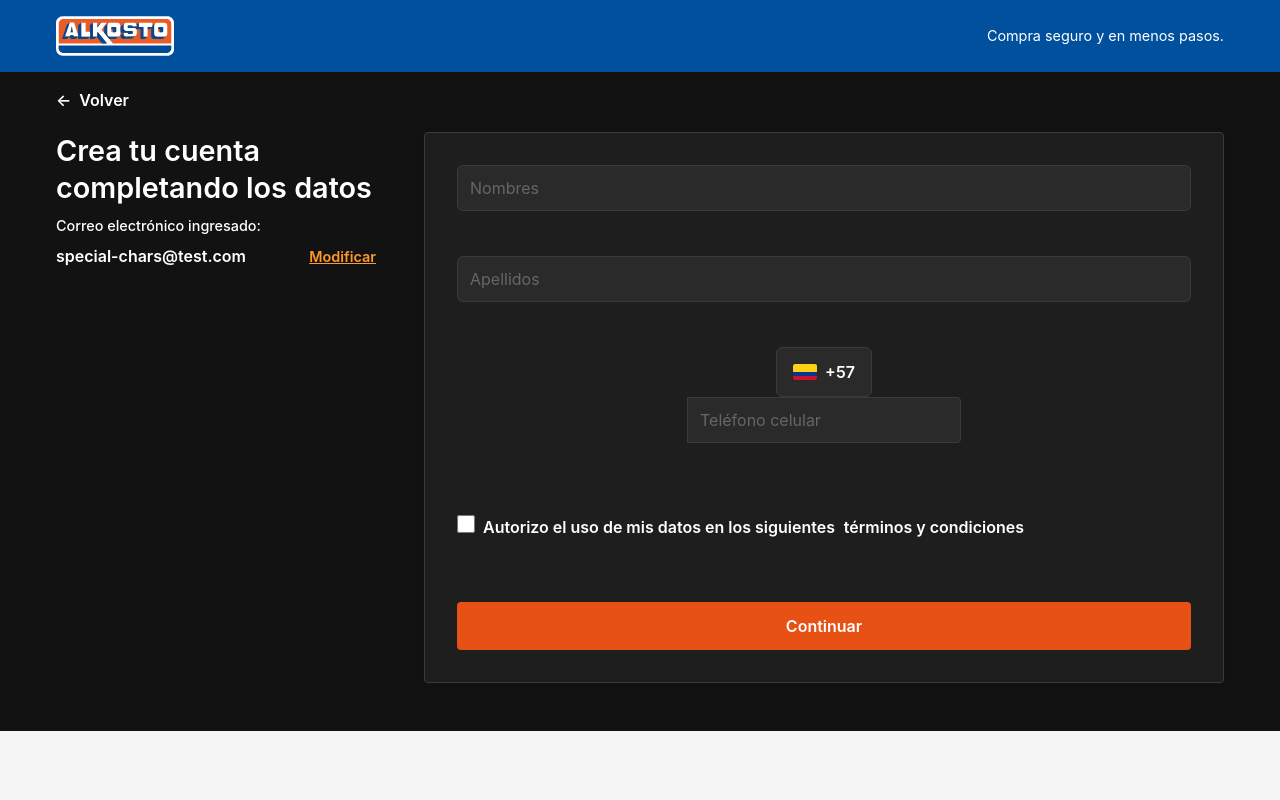
RF01 - REGISTRAR USUARIO - Pruebas E2E Completas › 6. Experiencia de Usuario e Interacciones › 6.2 Campo de nombre acepta caracteres especiales válidos
The image size is (1280, 800).
In the field named "firstName": (824, 188) [457,165,1191,211], type "O'Connor"
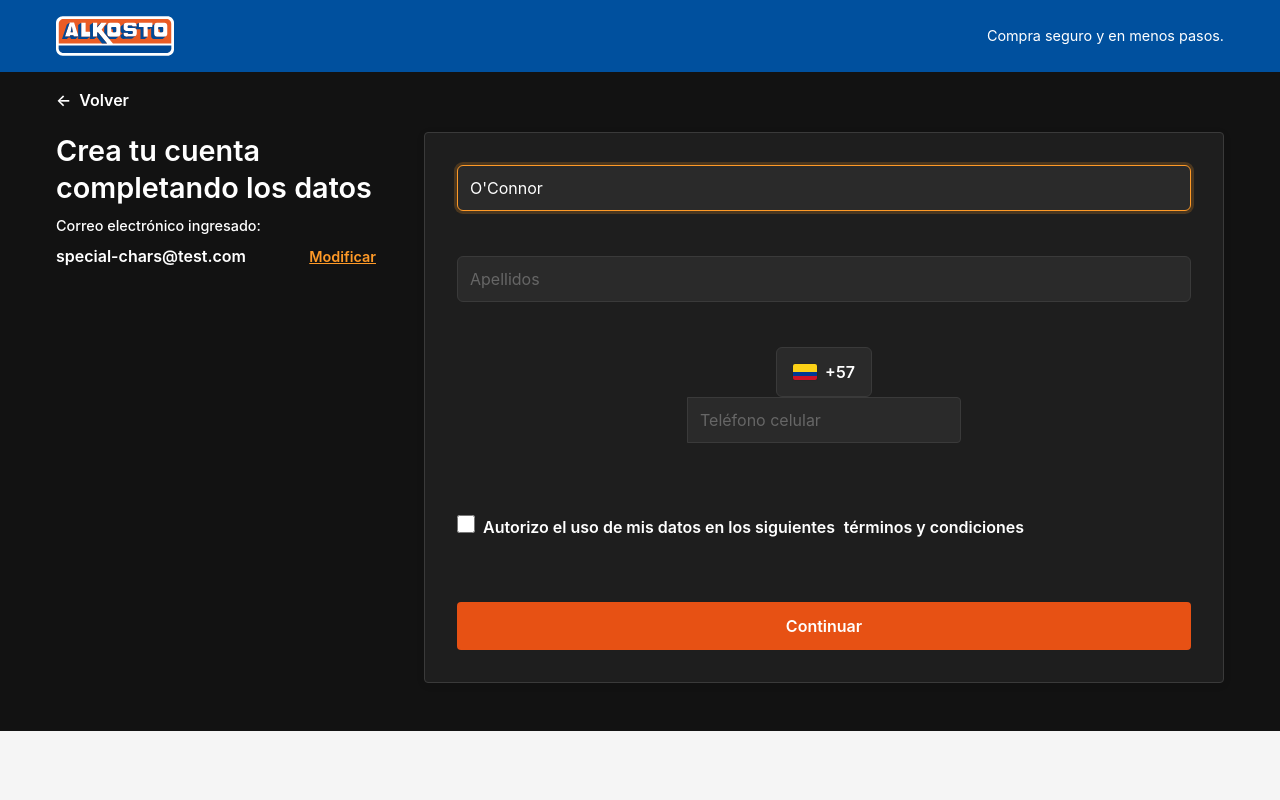
Replace the text in the field named "firstName" with "María-José": (824, 188) [457,165,1191,211]
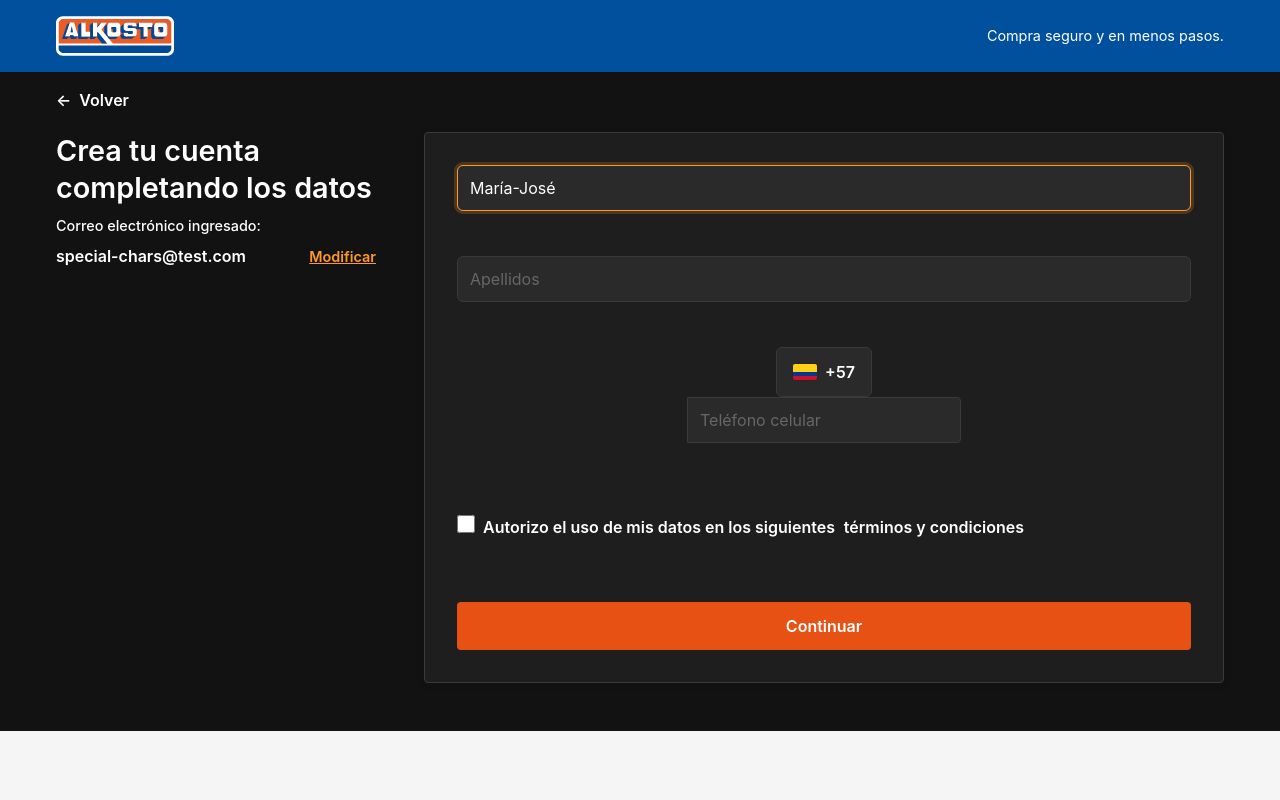
Expected: the field named "firstName" holds "María-José"
Replace the text in the field named "firstName" with "Jean-Luc": (824, 188) [457,165,1191,211]
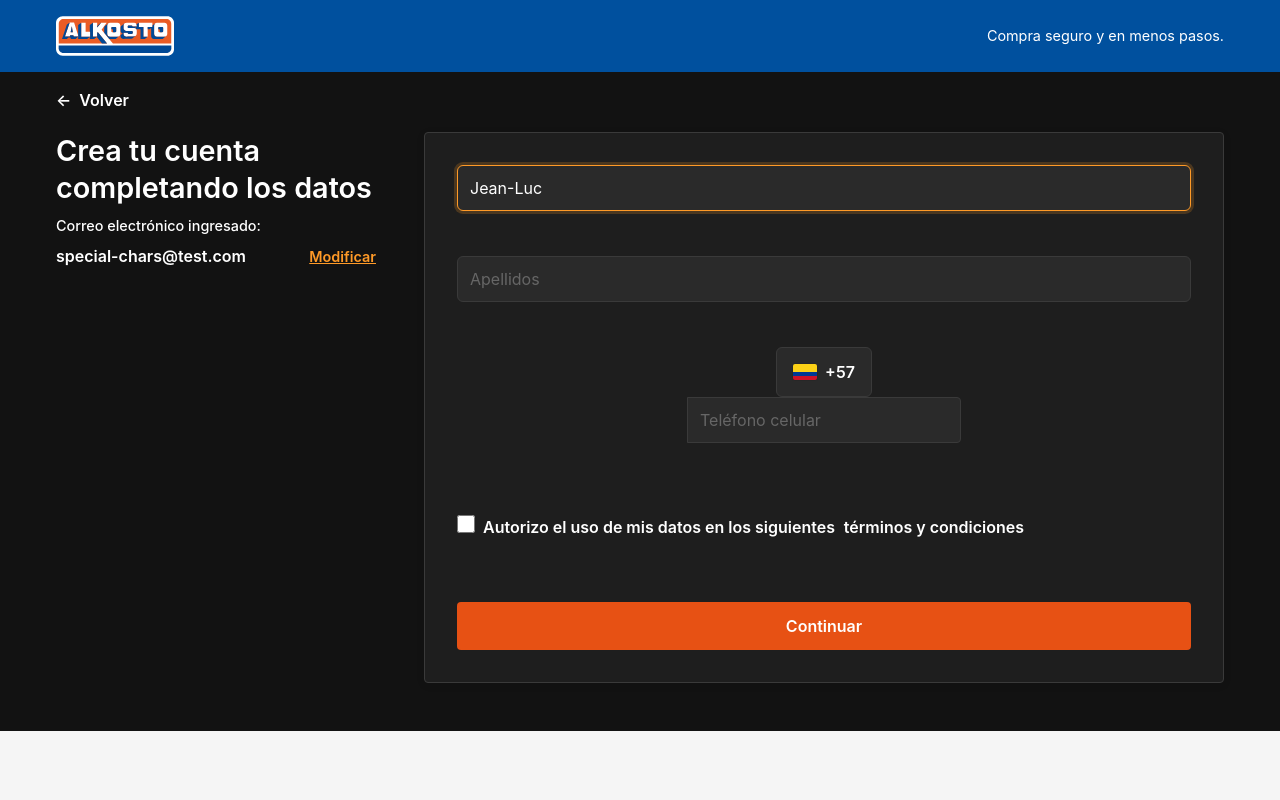
Expected: the field named "firstName" holds "Jean-Luc"
Replace the text in the field named "firstName" with "D'Angelo": (824, 188) [457,165,1191,211]
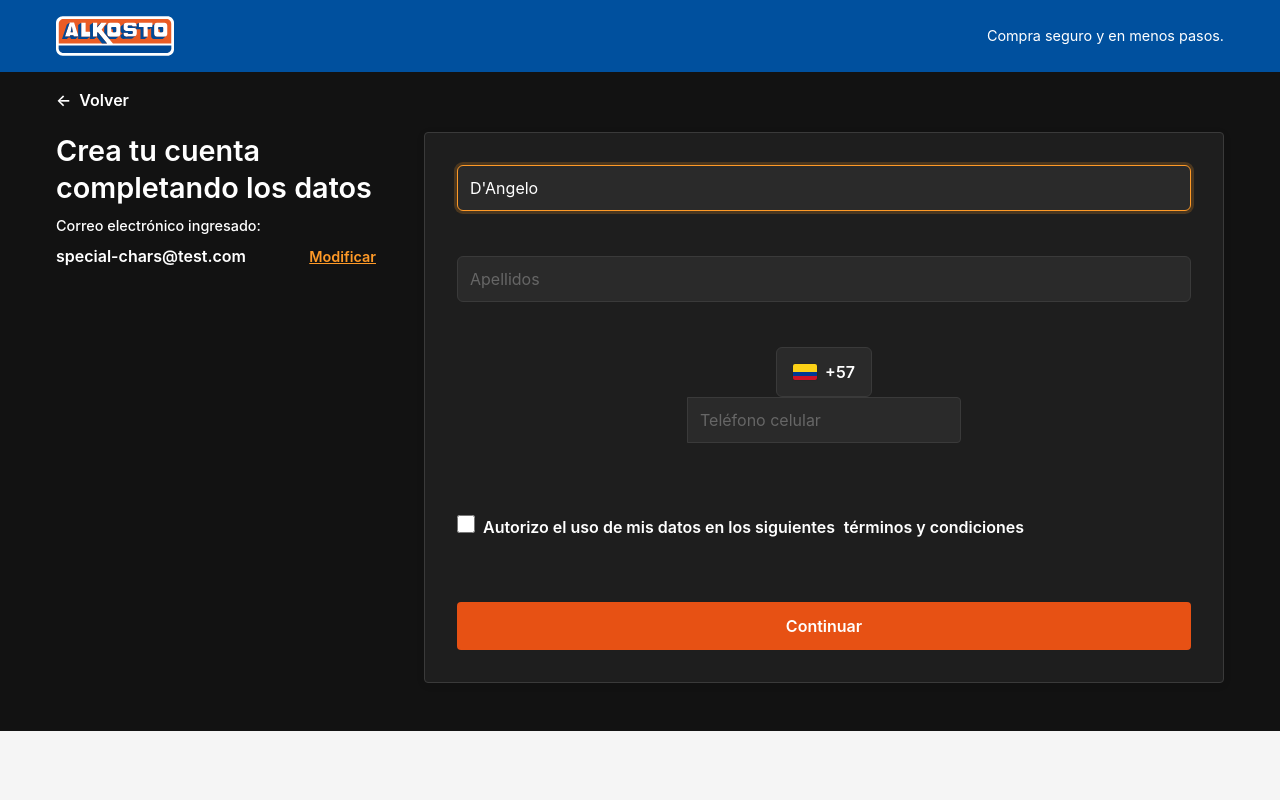
Expected: the field named "firstName" holds "D'Angelo", [457,165,1191,211]
